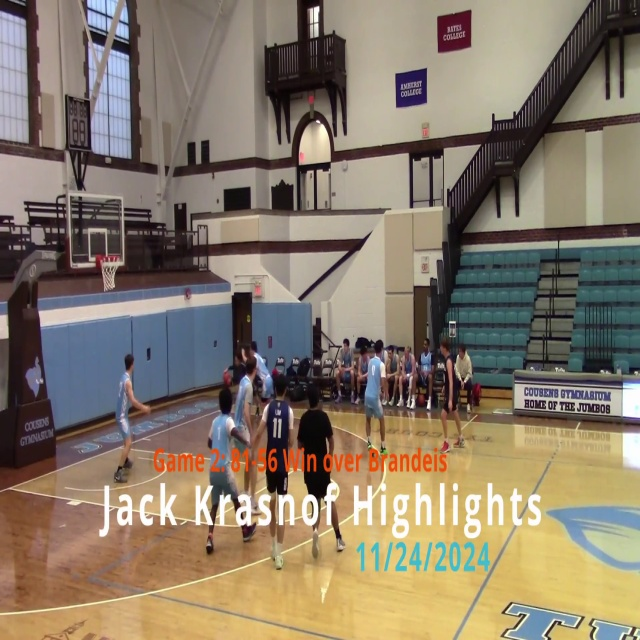Basketball: (323, 480, 340, 503), (290, 384, 305, 401), (223, 371, 232, 385)
